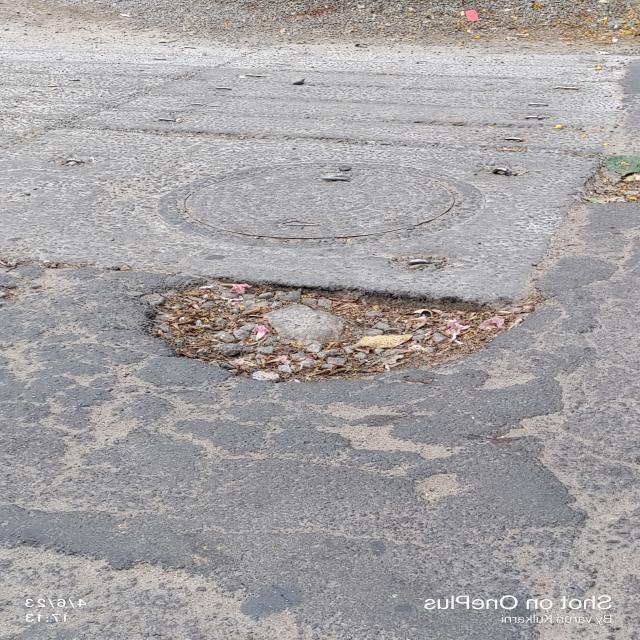potholes: (135, 268, 519, 387)
